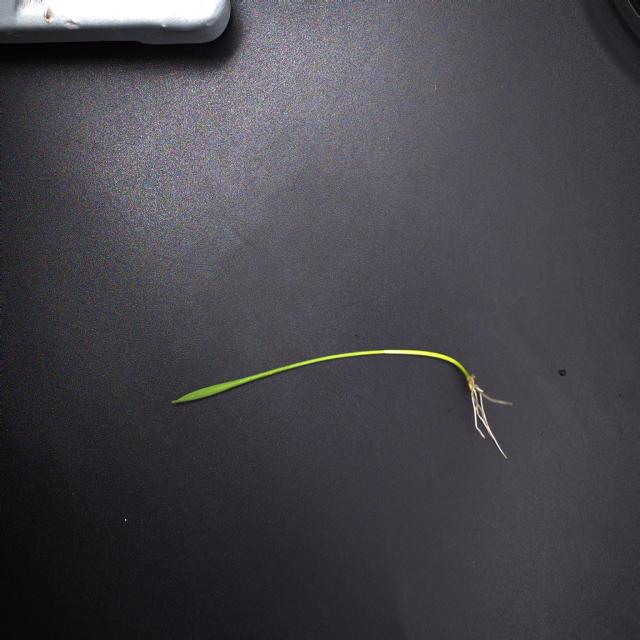leaf: (171, 352, 357, 405)
root: (467, 375, 512, 459)
stem: (357, 350, 470, 379)
